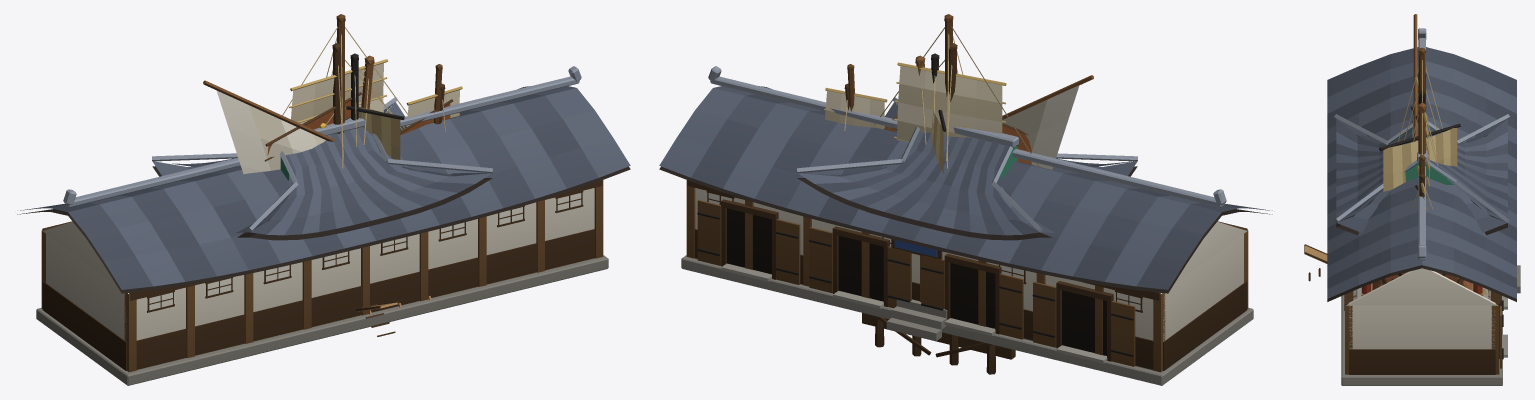
The model's file is port.glb.
3 views of the same model, side by side, from view 1: azimuth 30°, elevation 25°; view 2: azimuth 150°, elevation 25°; view 3: azimuth 270°, elevation 25° (orthographic). The views are drawn at different scales.
Visible parts, largest first — view 1: storehouse, byeokranjeong, sail_arab, sail_goryeo, sail_wae, ship_goryeo, sail_song, ship_song, ship_wae, ship_arab; view 2: storehouse, byeokranjeong, sail_goryeo, sail_arab, pier_seg, ship_goryeo, ship_song, sail_wae; view 3: storehouse, byeokranjeong, sail_wae, ship_goryeo, sail_arab, ship_arab, ship_song, sail_goryeo, gangplank, kiln, ship_wae.
Part boxes in pixels (<box>): storehouse: <box>17,66,630,385</box>; byeokranjeong: <box>152,97,492,341</box>; sail_arab: <box>203,80,334,174</box>; sail_goryeo: <box>289,59,462,126</box>; sail_wae: <box>346,106,404,159</box>; ship_goryeo: <box>282,14,442,168</box>; sail_song: <box>264,92,453,161</box>; ship_song: <box>331,42,445,161</box>; ship_wae: <box>350,53,431,314</box>; ship_arab: <box>326,55,374,144</box>; storehouse: <box>659,66,1272,385</box>; byeokranjeong: <box>797,97,1137,341</box>; sail_goryeo: <box>824,62,1006,142</box>; sail_arab: <box>1002,75,1093,169</box>; pier_seg: <box>862,313,1015,374</box>; ship_goryeo: <box>847,14,1040,168</box>; ship_song: <box>844,42,958,161</box>; sail_wae: <box>931,109,946,173</box>; storehouse: <box>1327,28,1516,385</box>; byeokranjeong: <box>1334,114,1520,300</box>; sail_wae: <box>1379,123,1460,191</box>; ship_goryeo: <box>1380,47,1463,285</box>; sail_arab: <box>1412,14,1417,141</box>; ship_arab: <box>1391,102,1452,280</box>; ship_song: <box>1385,73,1458,282</box>; sail_goryeo: <box>1414,76,1430,213</box>; gangplank: <box>1304,244,1327,281</box>; kiln: <box>1372,272,1471,290</box>; ship_wae: <box>1344,91,1490,300</box>.
Size of the model in its own units: 20.75 by 12.21 by 8.57.
